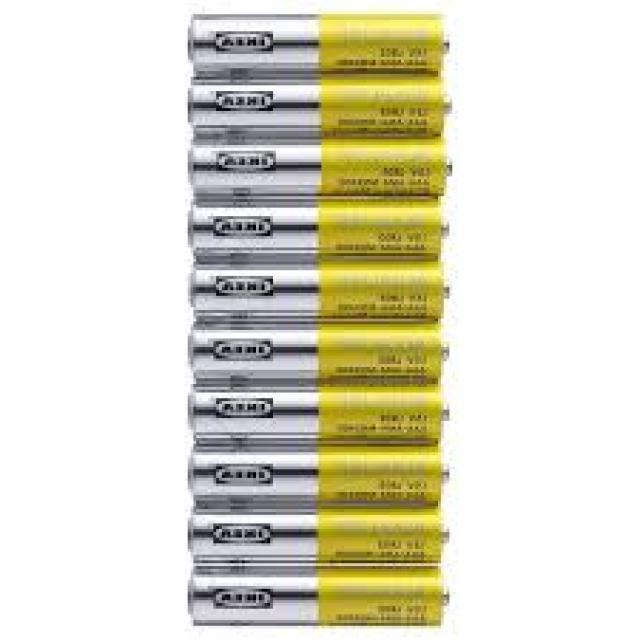battery: (190, 70, 463, 138), (191, 10, 459, 77), (185, 194, 460, 258), (188, 382, 452, 442), (186, 137, 460, 194), (186, 448, 452, 506), (186, 262, 459, 318), (186, 319, 454, 374), (186, 512, 446, 568), (187, 575, 450, 624)
